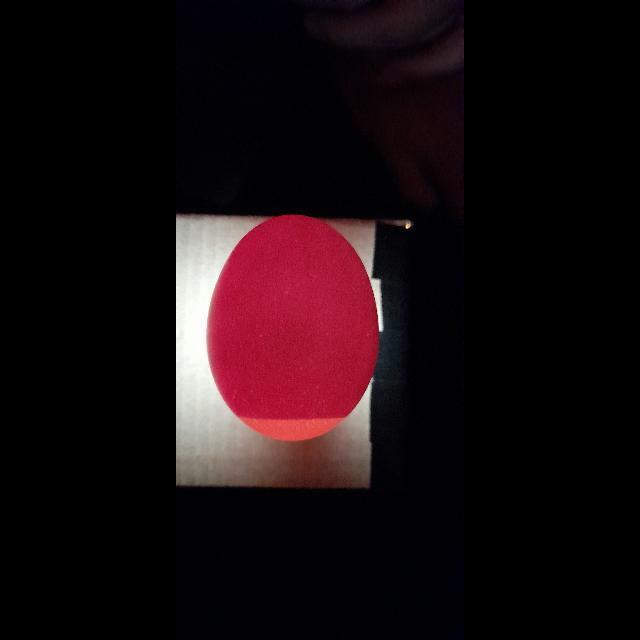Fertile: (208, 213, 376, 445)
